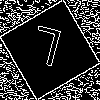L: (25, 25, 64, 77)
